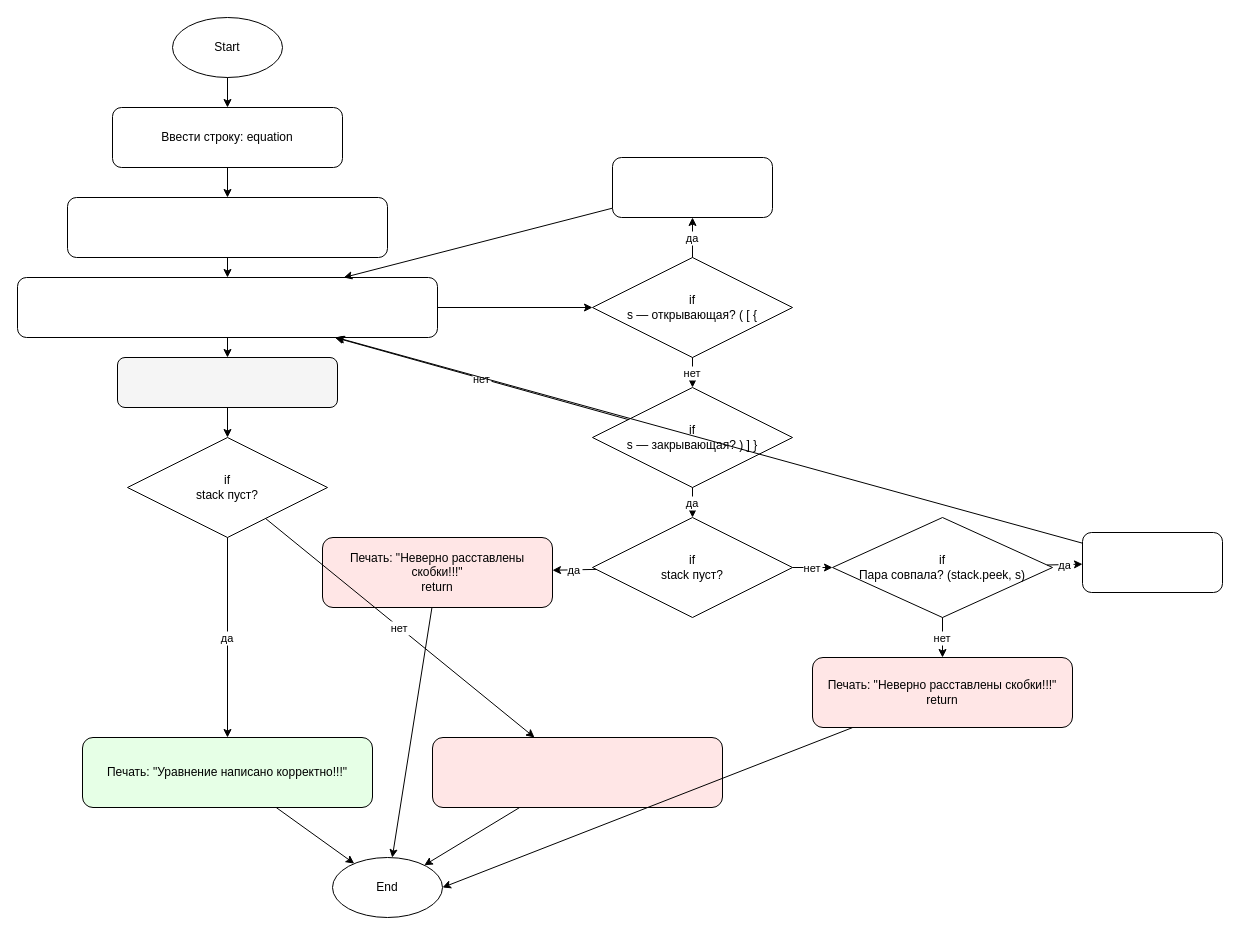
Some shapes in this 1240 by 935 pixel diagram are drawn without their labels. The shapes that lost their labels are listed below. From the top down, each one's centre as x and y in pixels, then its label:
(x=692, y=187): stack.push(s)
(x=227, y=227): Инициализируем пустой стек (ArrayDeque)
(x=227, y=307): for Цикл: для каждого символа s из equation.split("")
(x=227, y=382): После завершения цикла
(x=1152, y=562): stack.pop()
(x=577, y=772): Печать: "Неверно расставлены скобки!!!"
